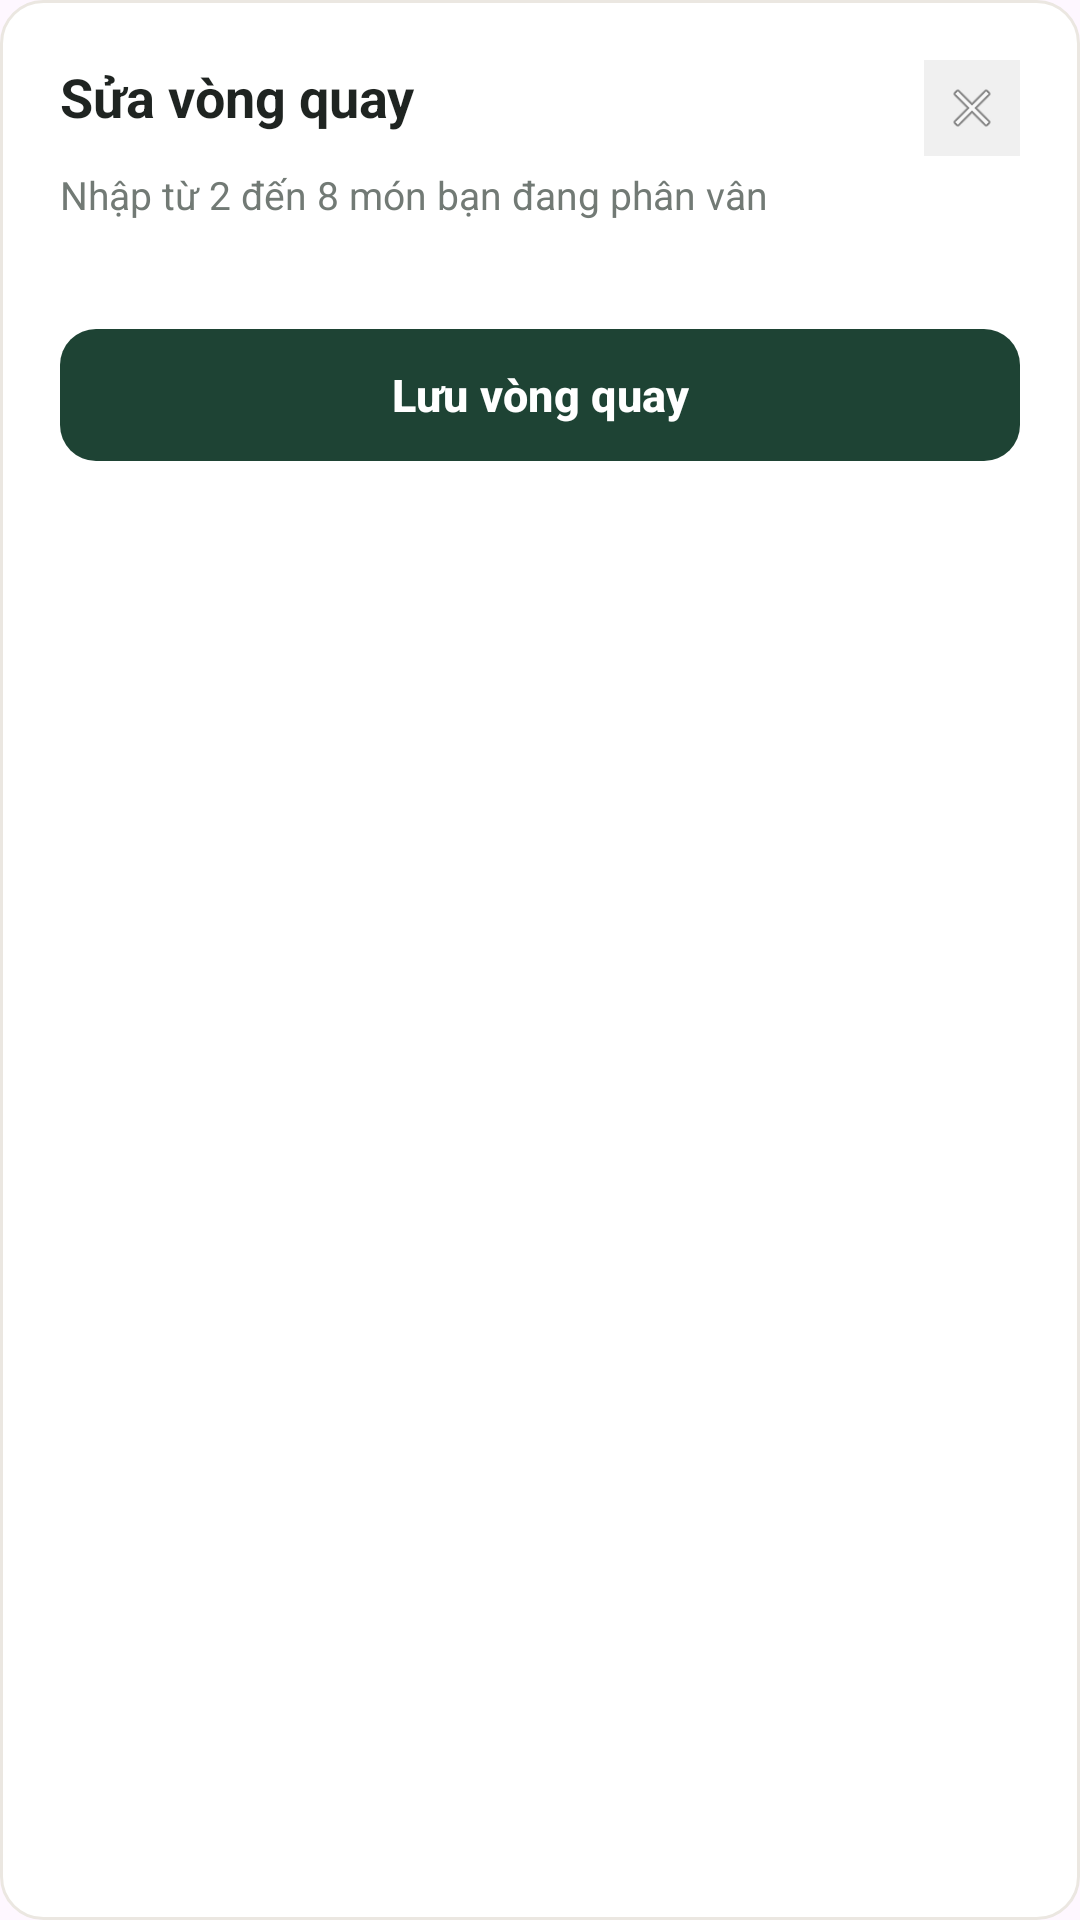

Where to tap for icons on this 1080×1920 app screen, as [x,y]:
Close: [972,108]
